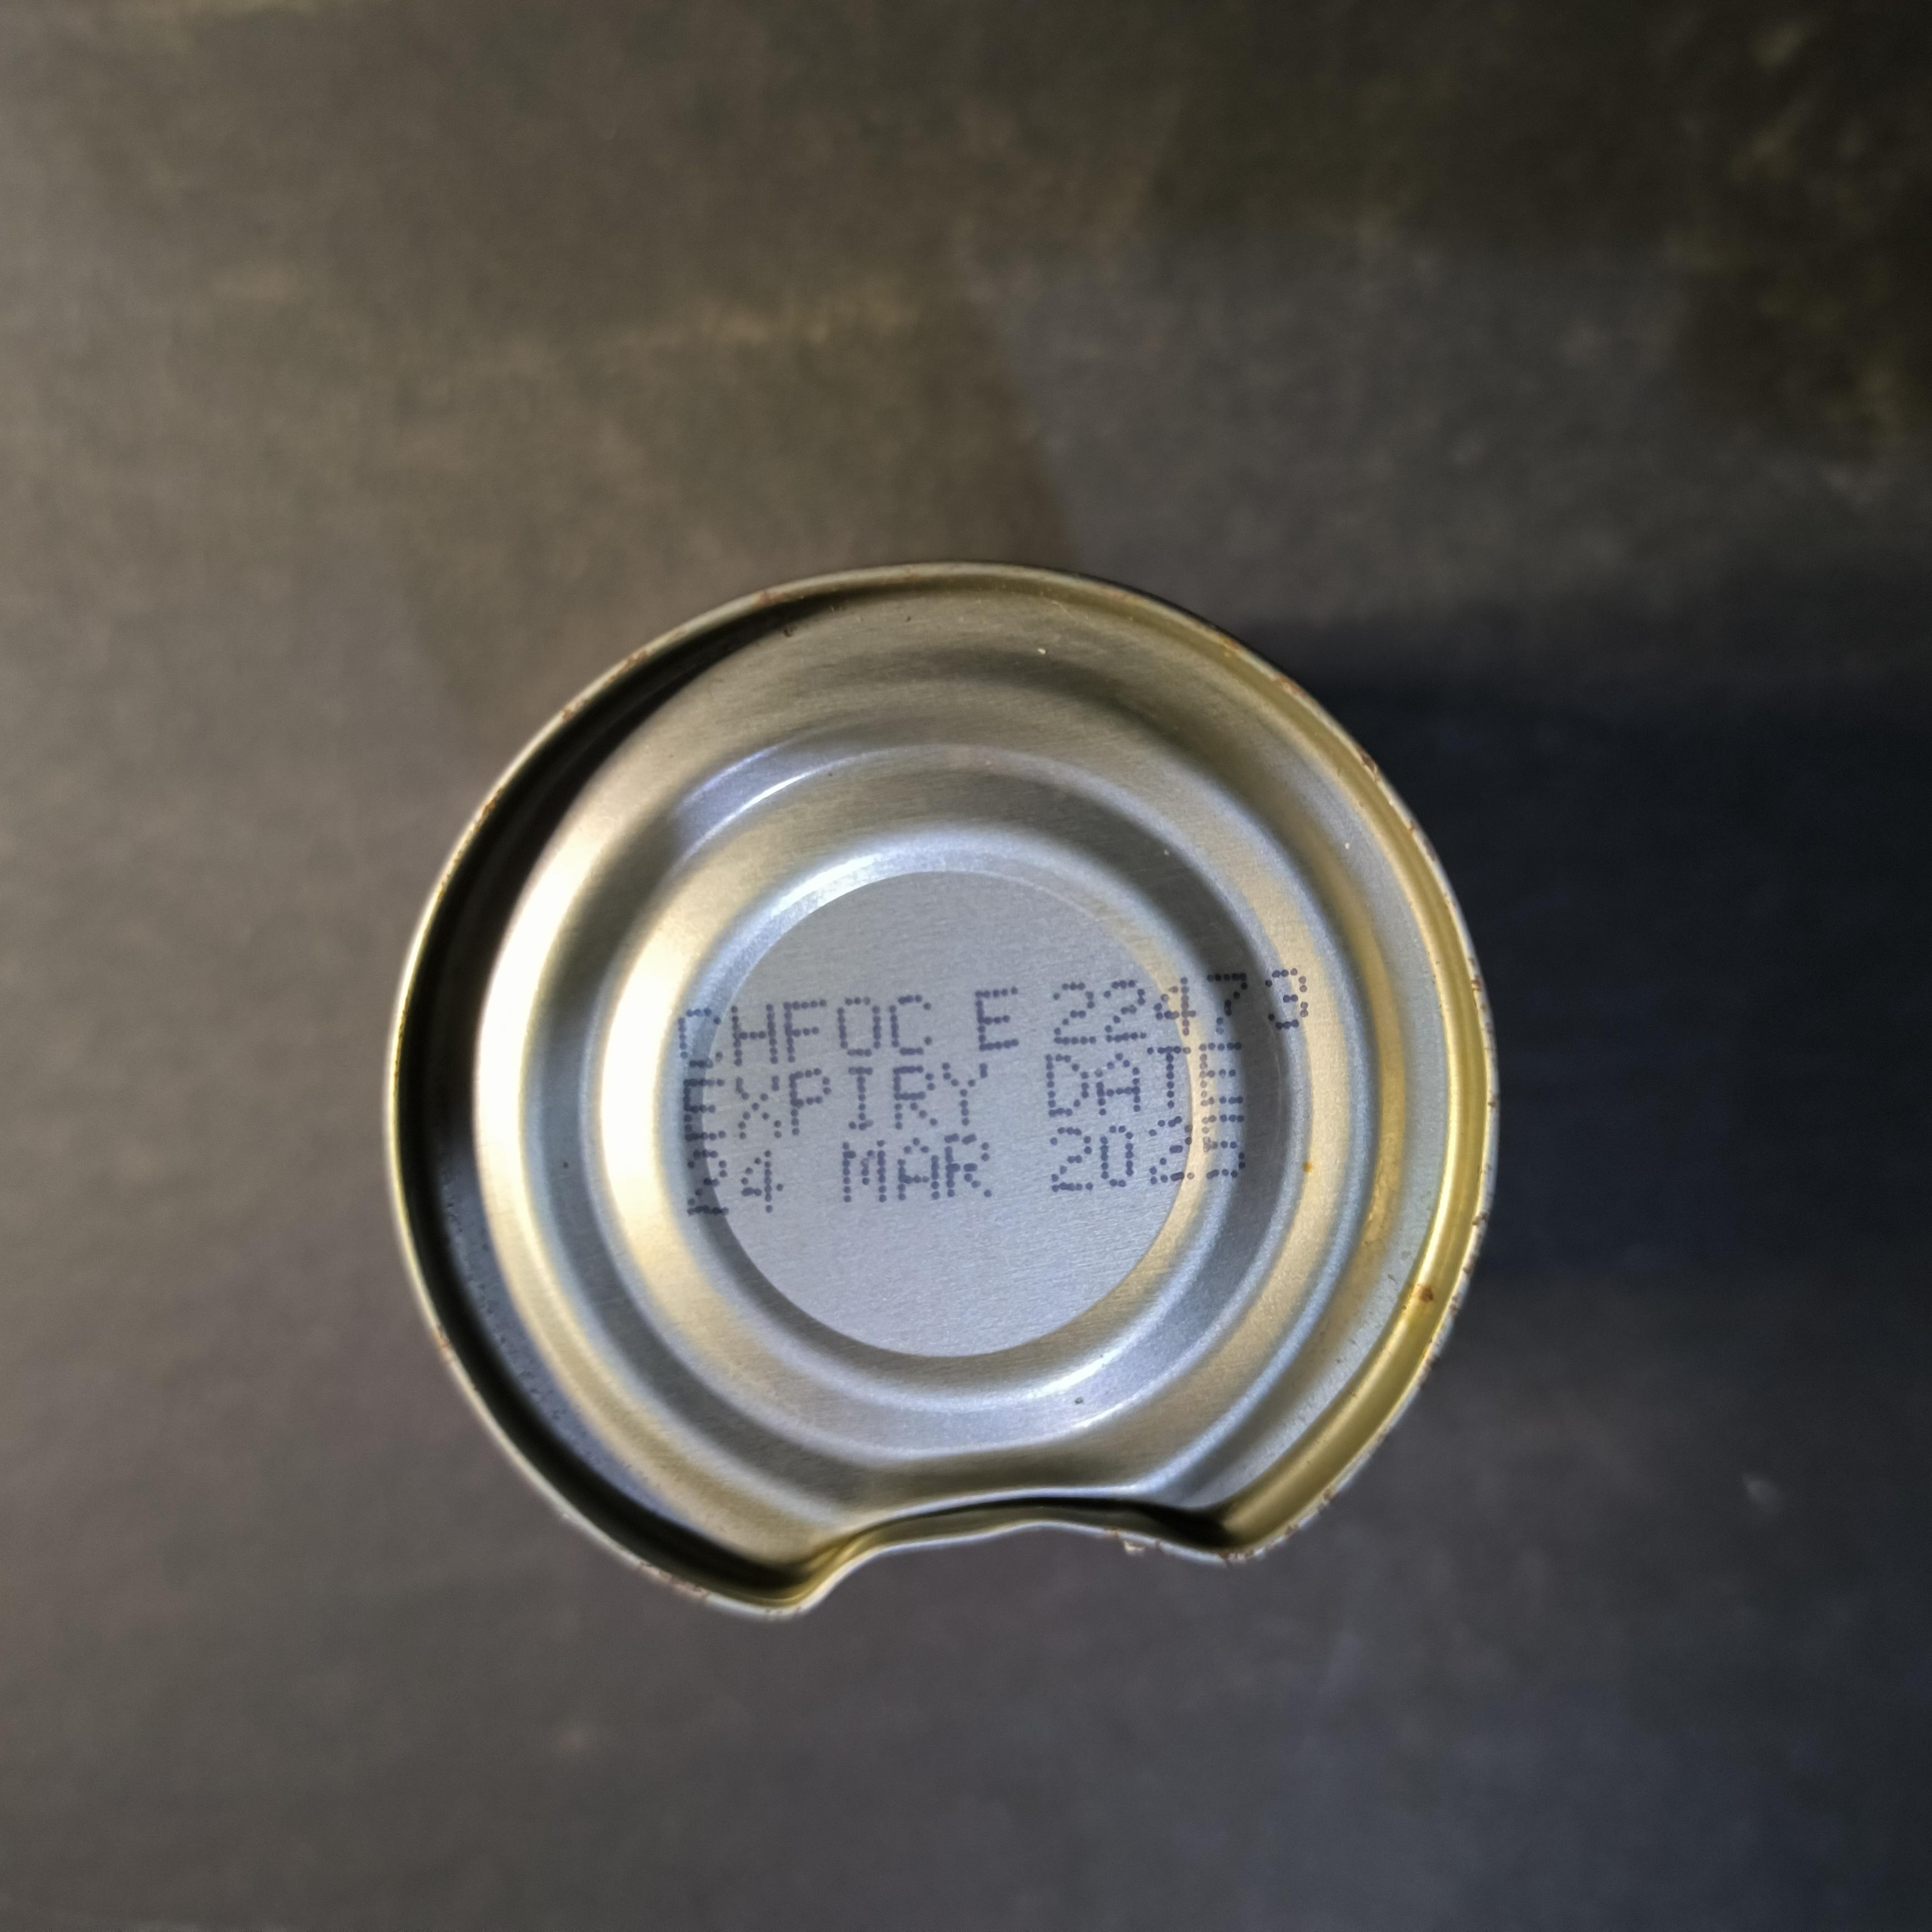Critical Defect: (377, 559, 1509, 1628)
